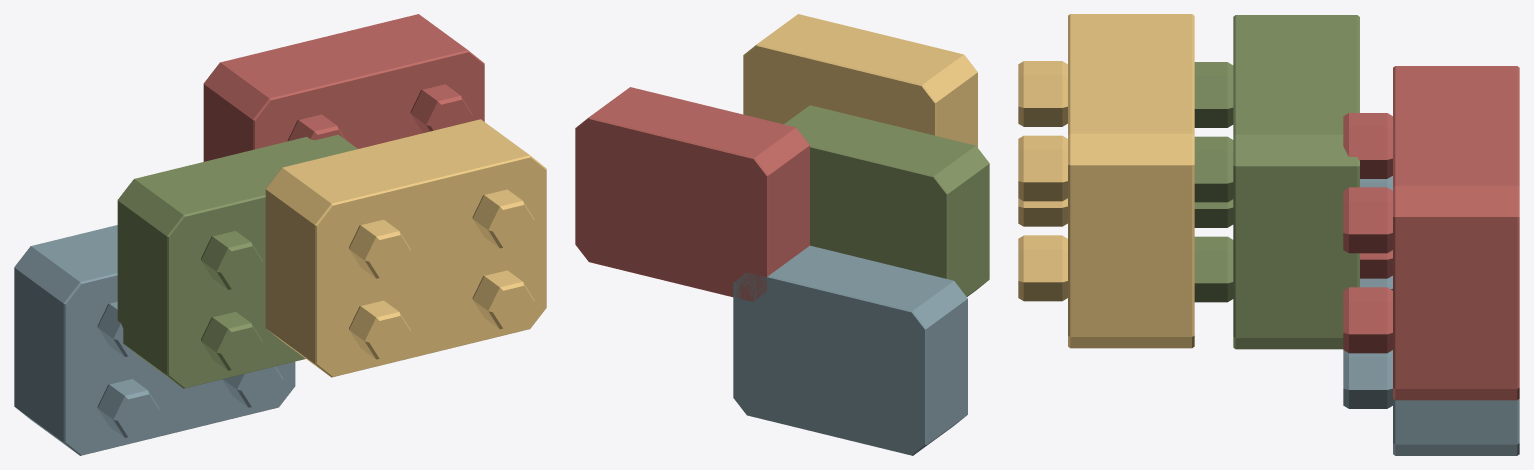
File: building_blocks.glb
The picture shows the model from 3 angles, left to right: view 1: azimuth 30°, elevation 25°; view 2: azimuth 150°, elevation 25°; view 3: azimuth 270°, elevation 25°; orthographic projection. The views are drawn at different scales.
Parts seen in each view (by area): view 1: building_blocks; view 2: building_blocks; view 3: building_blocks.
Boxes of the visible parts, x1=… form: building_blocks: x1=14, y1=14, x2=546, y2=455; building_blocks: x1=575, y1=14, x2=989, y2=455; building_blocks: x1=1018, y1=14, x2=1519, y2=455.
Bounding box in the file's own units: 0.109 × 0.079 × 0.091.
